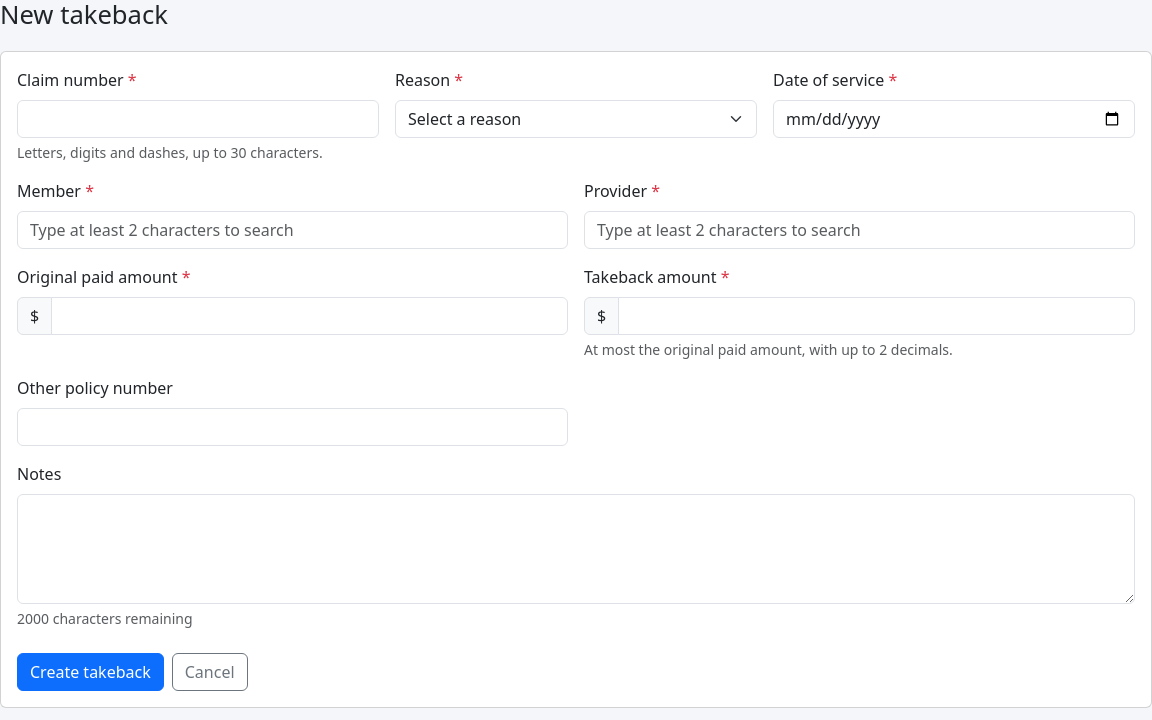
TakebackFormComponent › new takeback › connects the pickers with their messages for screen readers
This screenshot has width=1152, height=720.
What coordinates should you click on to do the following:
click the button "Create takeback"
I would click on:
 (90, 672)
Its box is [17,653,164,691].
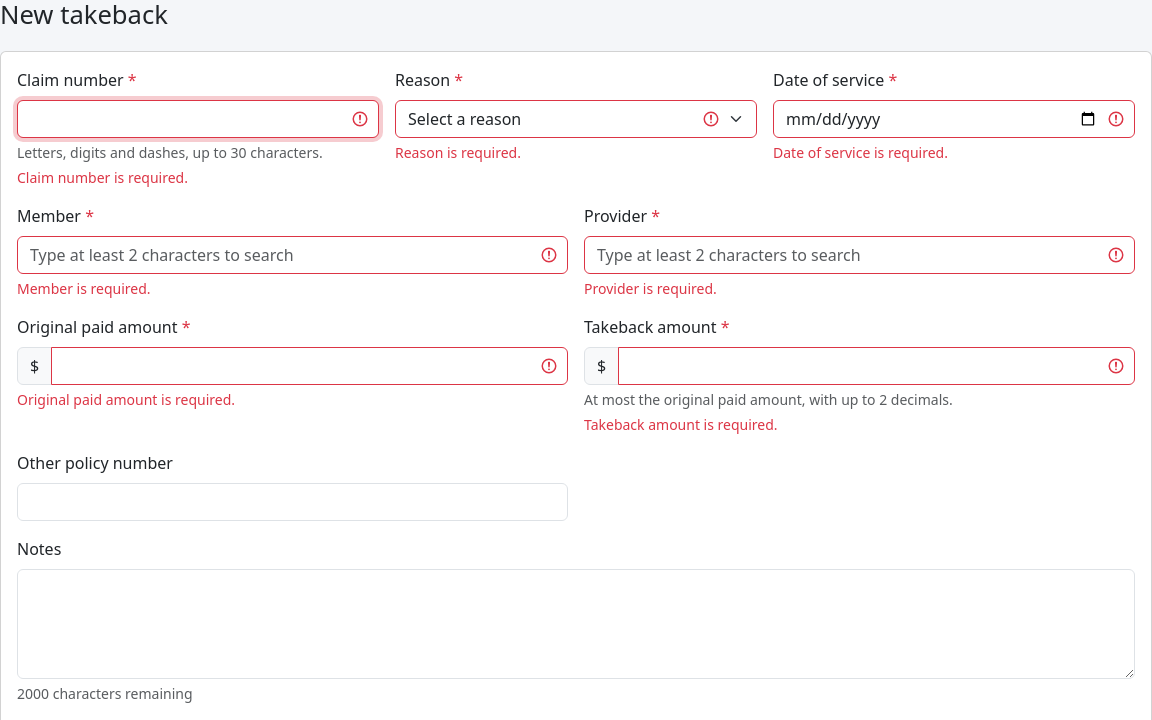
Result: the element with id "takeback-provider-errors" is shown at [584,279,717,298]
